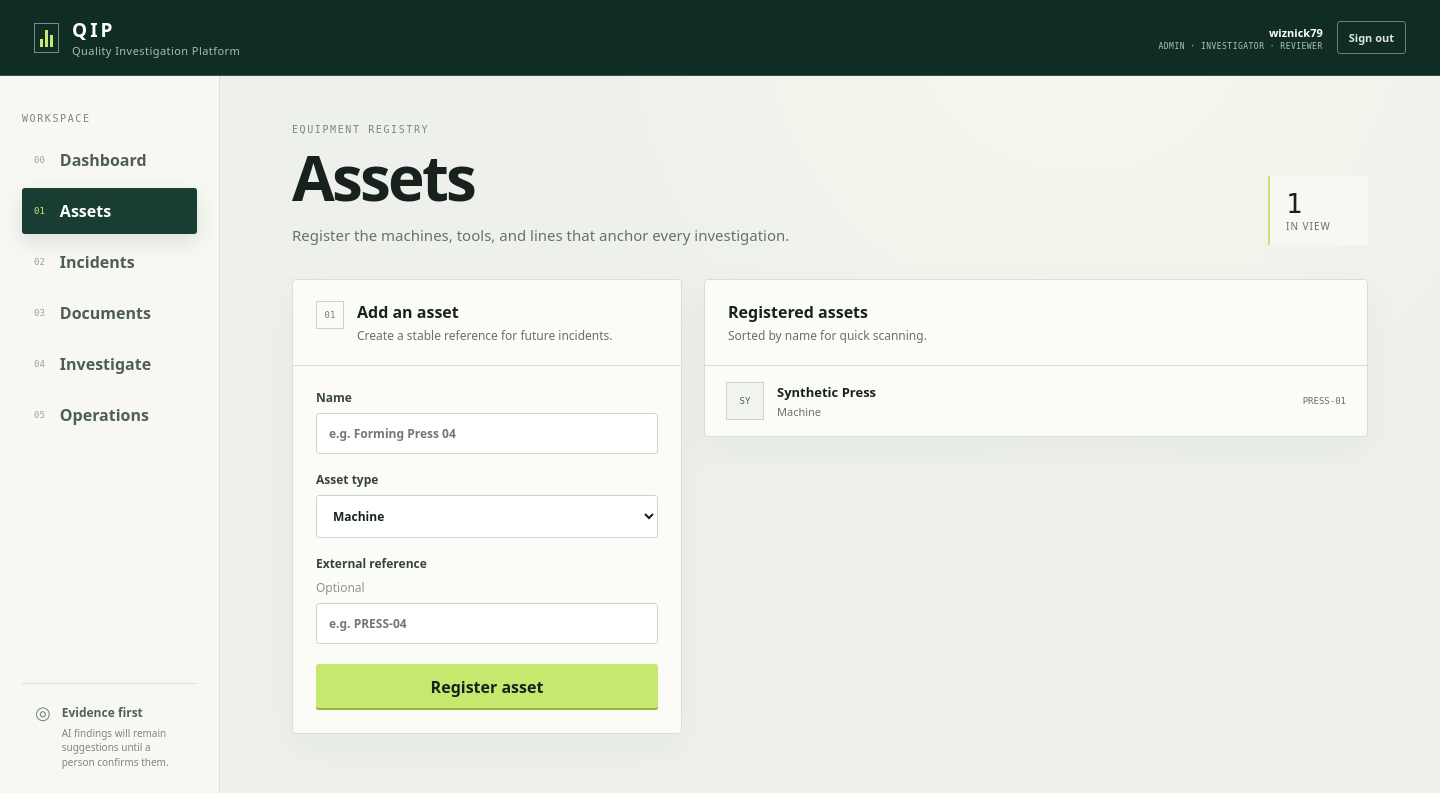
Scenario: QIP workspace › navigates between the primary workflow screens
Expected: the text "Synthetic Press" is shown, left=777, top=383, right=876, bottom=401
Click the button "02 Incidents": (110, 262) left=22, top=239, right=197, bottom=285
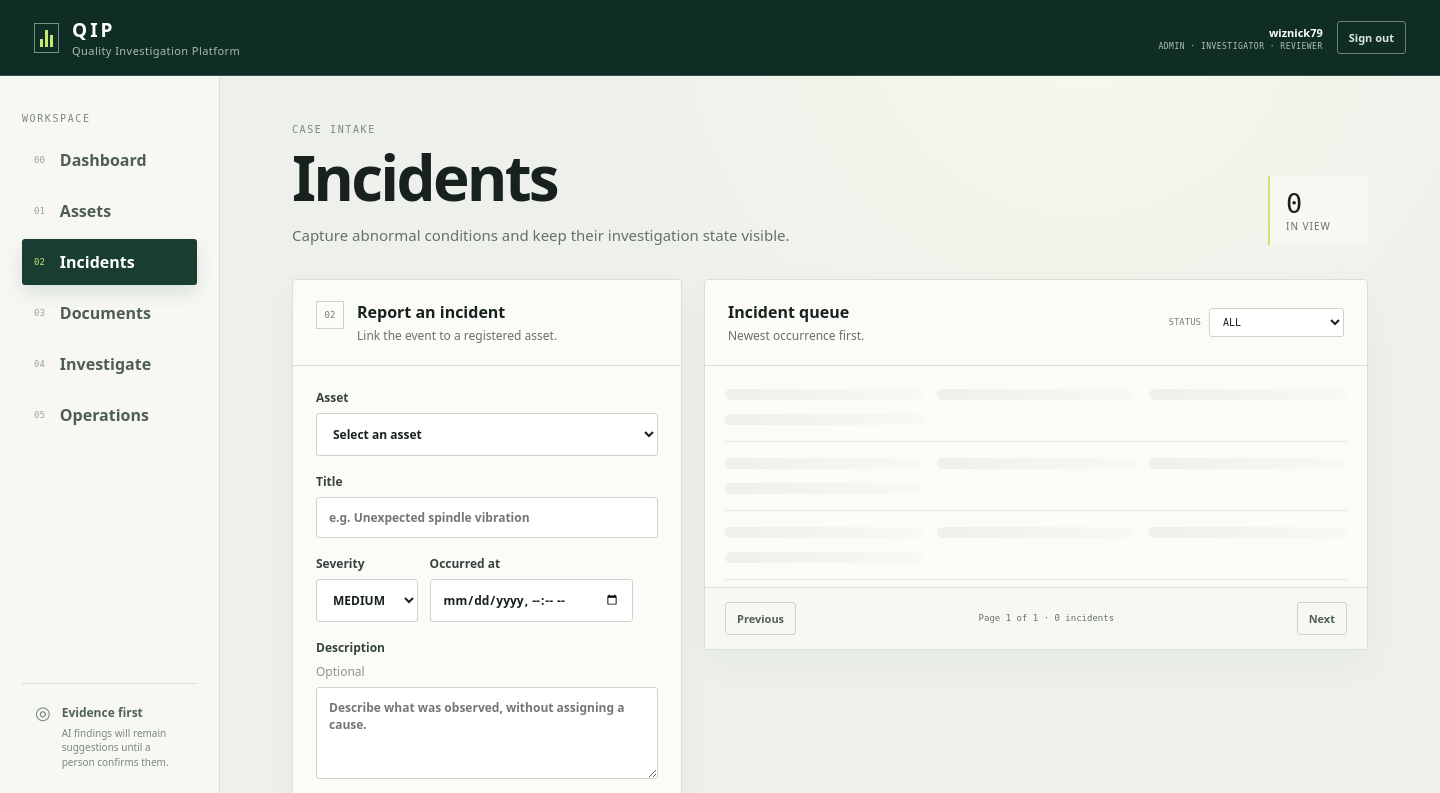
Result: the heading "Incident queue" is shown at left=728, top=301, right=864, bottom=323
Click the button "03 Documents": (110, 313) left=22, top=290, right=197, bottom=336
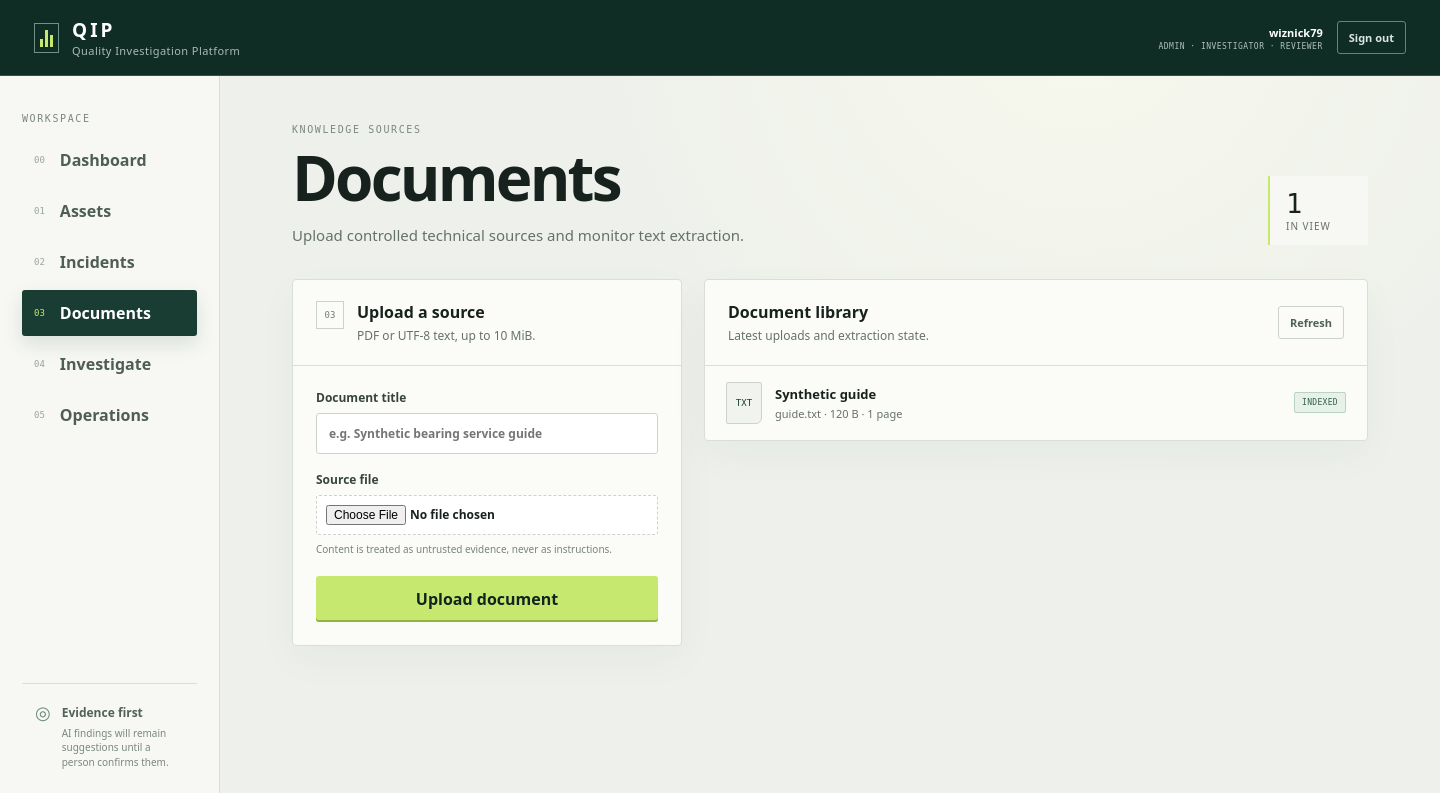
Result: the text "Synthetic guide" is shown at left=775, top=385, right=876, bottom=403
Result: the text "INDEXED" is shown at left=1294, top=392, right=1346, bottom=413
Click the button "04 Investigate": (110, 364) left=22, top=341, right=197, bottom=387
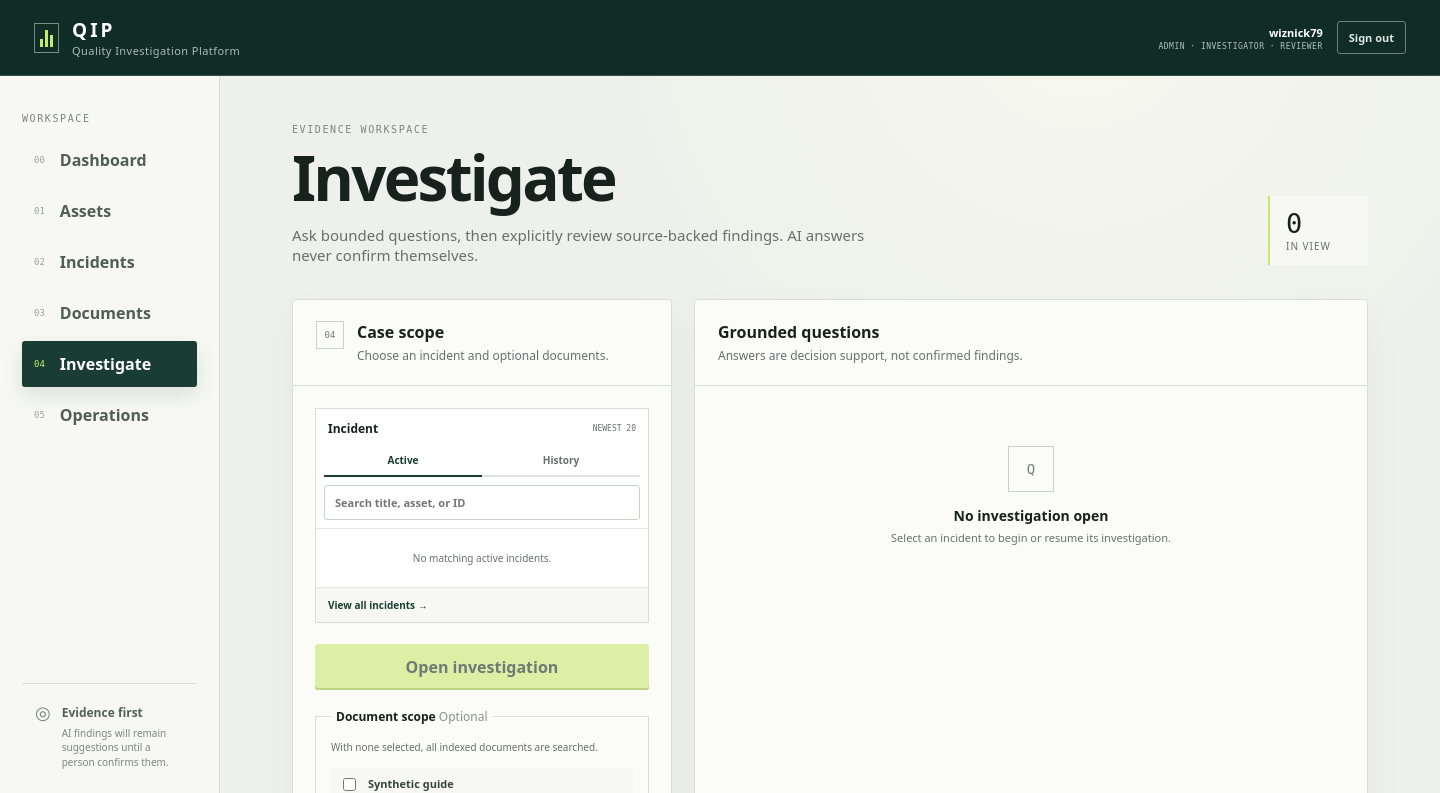
Result: the heading "Grounded questions" is shown at left=718, top=321, right=880, bottom=343
